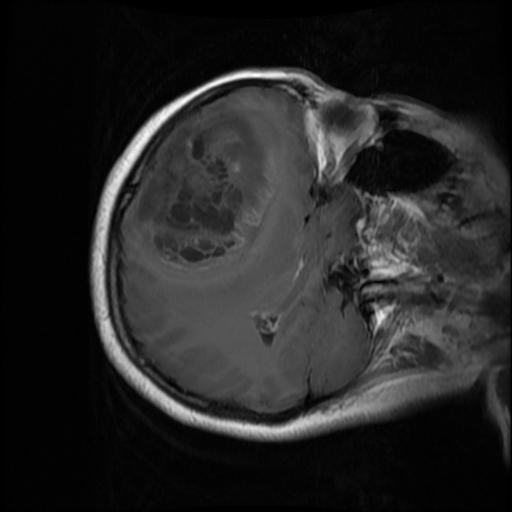glioma: (121, 101, 270, 279)
